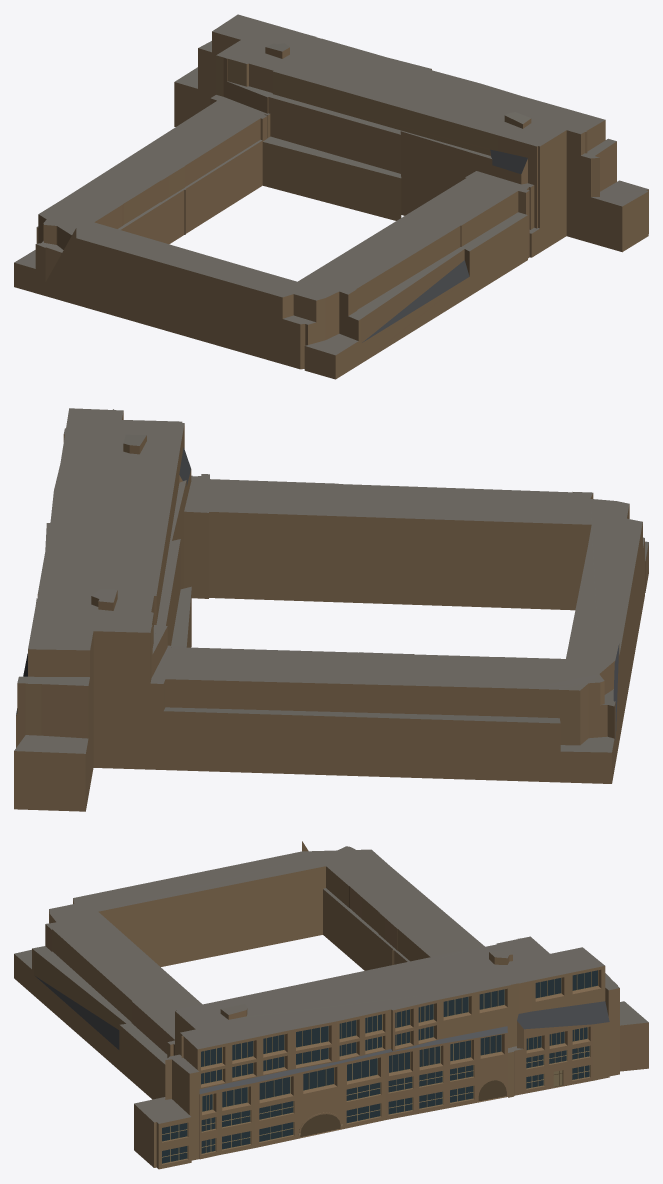
The model's file is recipe-large-krommeniestraat-1-135-251650.glb.
3 renders of one model, top to bottom at view 1: azimuth 30°, elevation 25°; view 2: azimuth 150°, elevation 25°; view 3: azimuth 270°, elevation 25°, orthographic. The views are drawn at different scales.
Visible parts, largest first — view 1: krommeniestraat-1-135-251650; view 2: krommeniestraat-1-135-251650; view 3: krommeniestraat-1-135-251650.
Part boxes in pixels (box(x1,y1,x2,y2)): krommeniestraat-1-135-251650: box(14, 14, 648, 379); krommeniestraat-1-135-251650: box(14, 408, 648, 811); krommeniestraat-1-135-251650: box(14, 841, 648, 1169).
Bounding box in the file's own units: 83.93 × 17.15 × 85.27.
